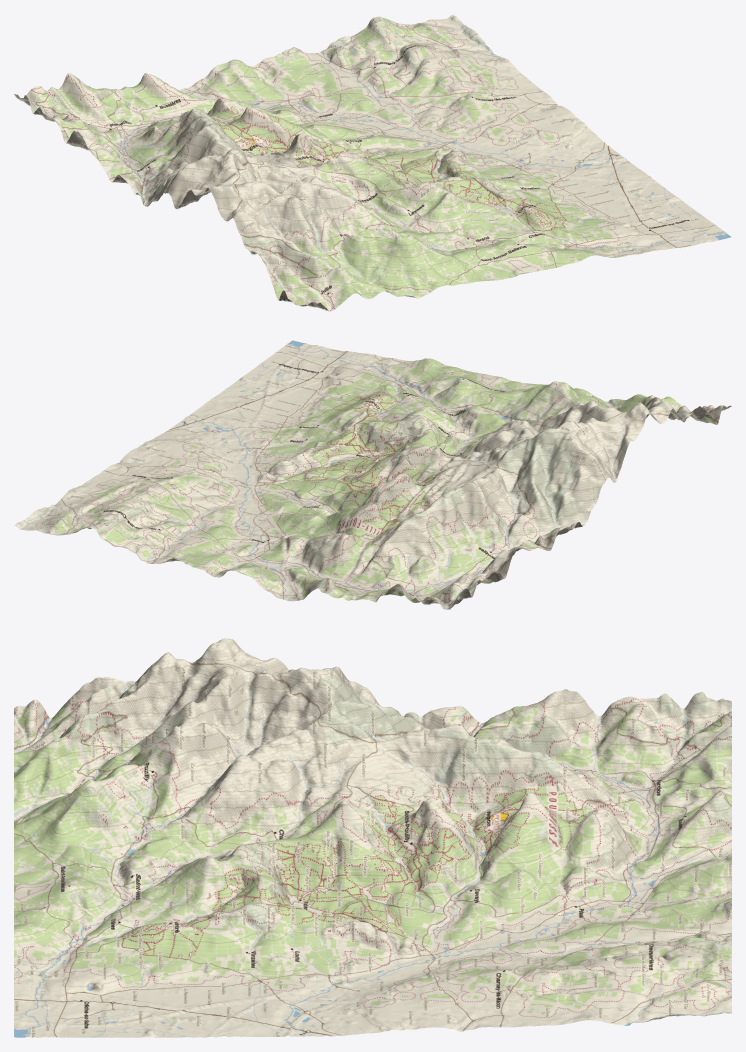
File: pf_terrain.glb
The picture shows the model from 3 angles, top to bottom: view 1: azimuth 30°, elevation 25°; view 2: azimuth 150°, elevation 25°; view 3: azimuth 270°, elevation 25°; orthographic projection. The views are drawn at different scales.
Visible parts, largest first — view 1: Terrain; view 2: Terrain; view 3: Terrain.
Boxes of the visible parts, x1,y1,x2,y2 form: Terrain: (14,14,731,311); Terrain: (14,340,731,609); Terrain: (14,638,731,1037).
Bounding box in the file's own units: 10889 × 2332 × 11956.
1 material, 1 textured.
